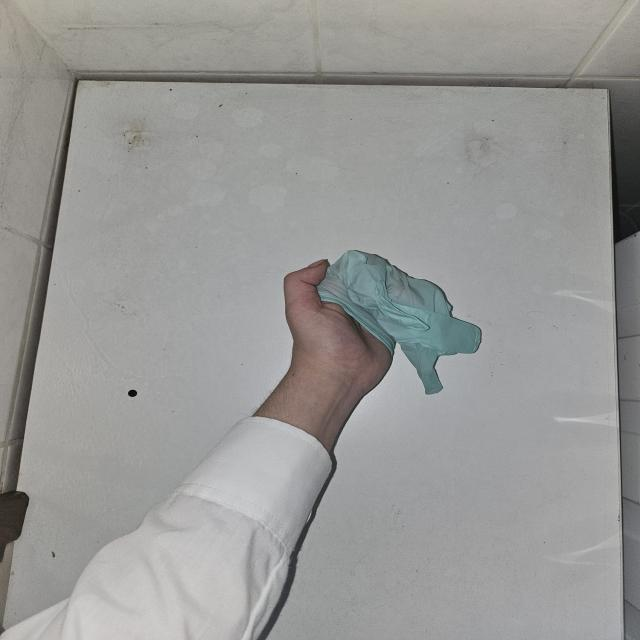glove_partial: (282, 247, 483, 396)
